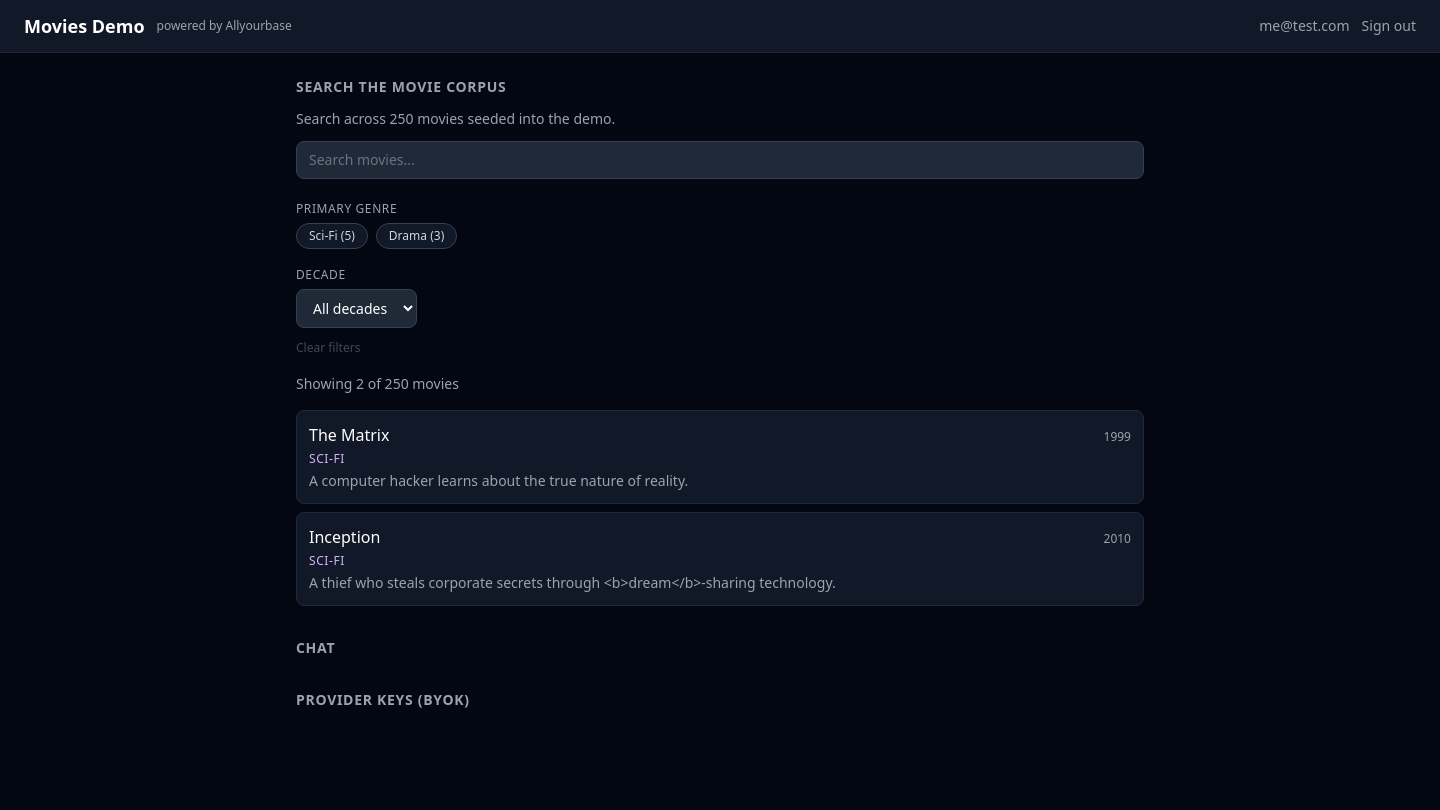
Test case: App search › clears query and filters after successful sign out
The image size is (1440, 810).
Expected: the heading "The Matrix" is shown, [309,423,389,447]
In the field with placeholder "Search movies...": (720,160) [296,141,1144,179], type "matrix"
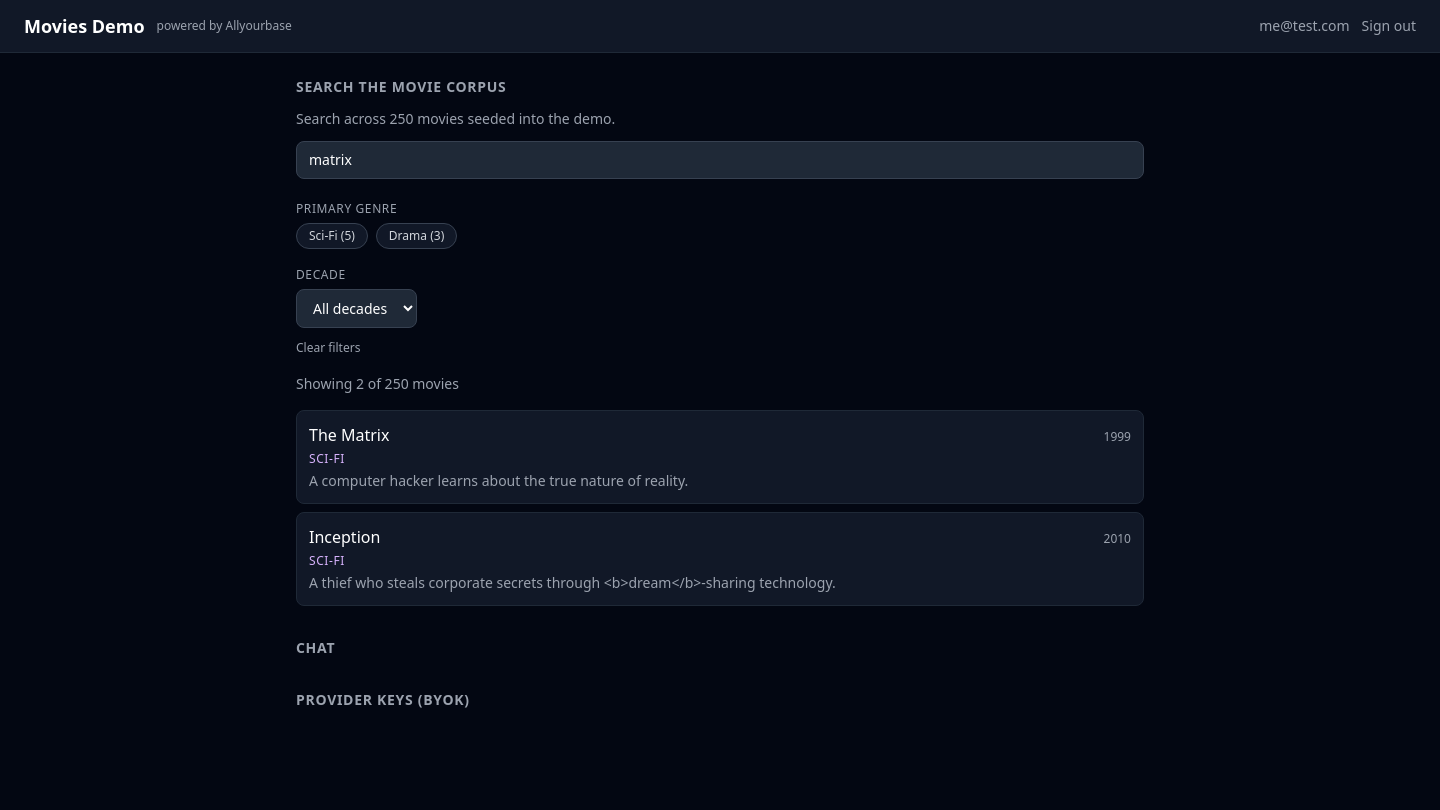
Click the button with test id "genre-facet-Sci-Fi": (332,236) [296,223,368,249]
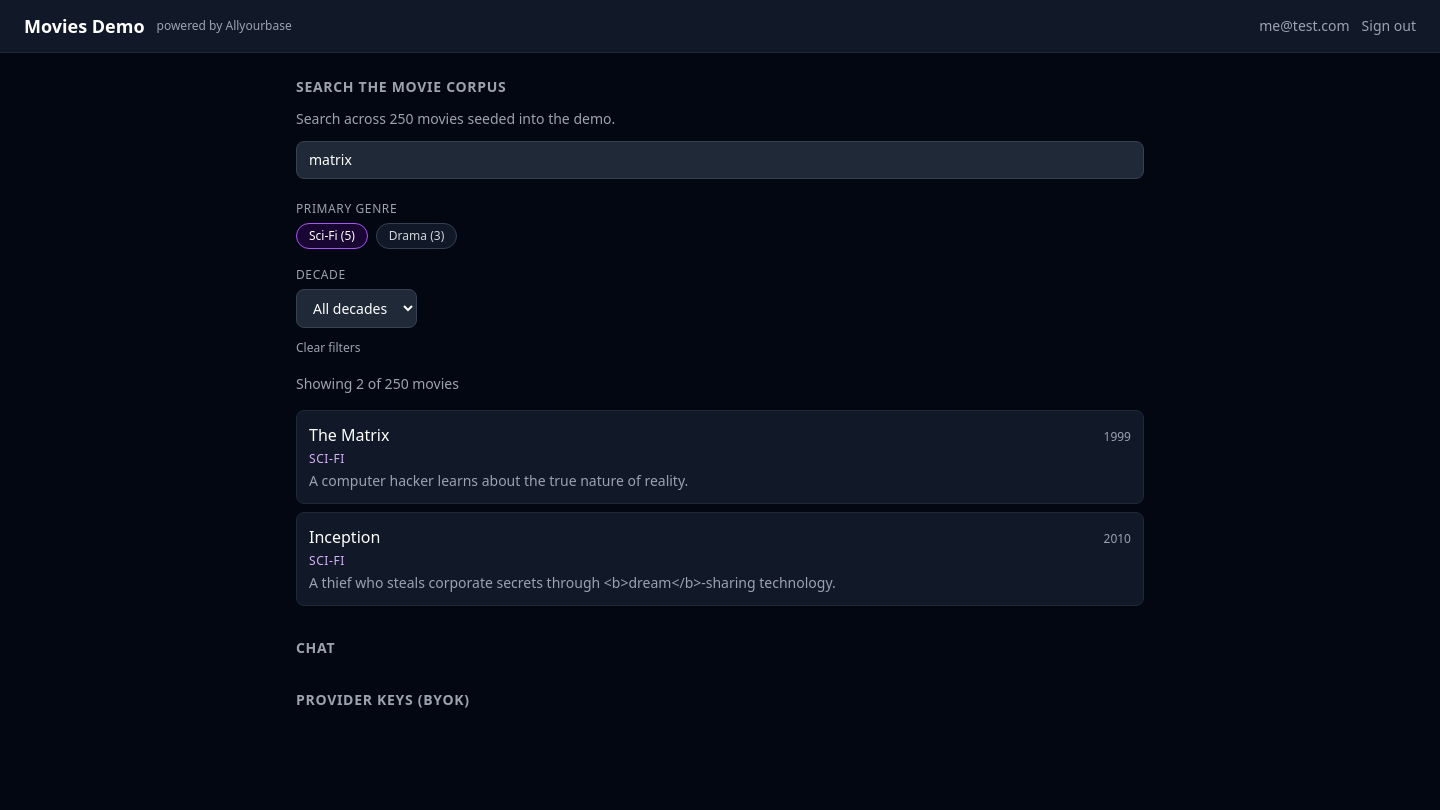
Select "1990s" in the dropdown with test id "decade-filter": (356,308) [296,289,417,328]
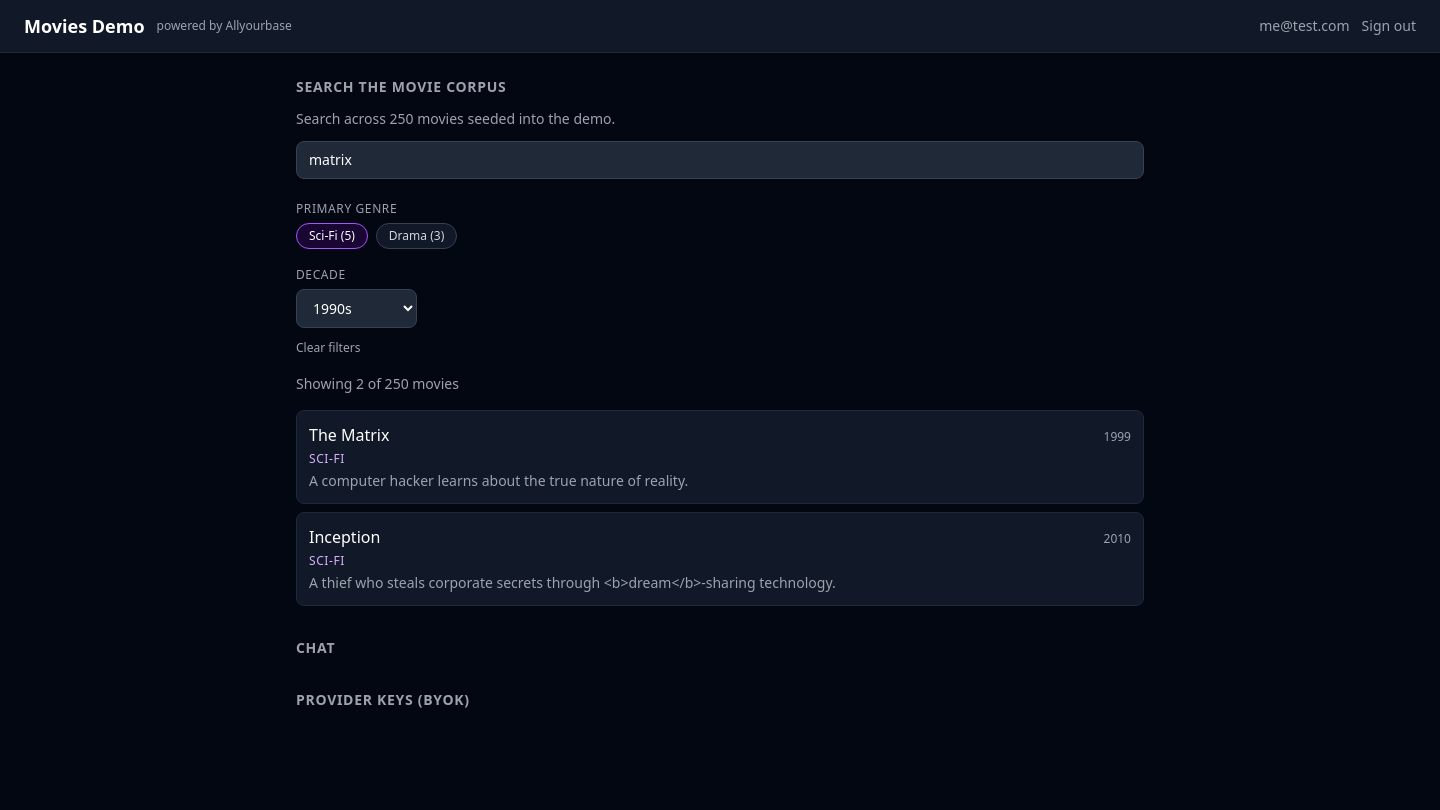
Click the button "Sign out": (1389,26) [1362,16,1416,36]
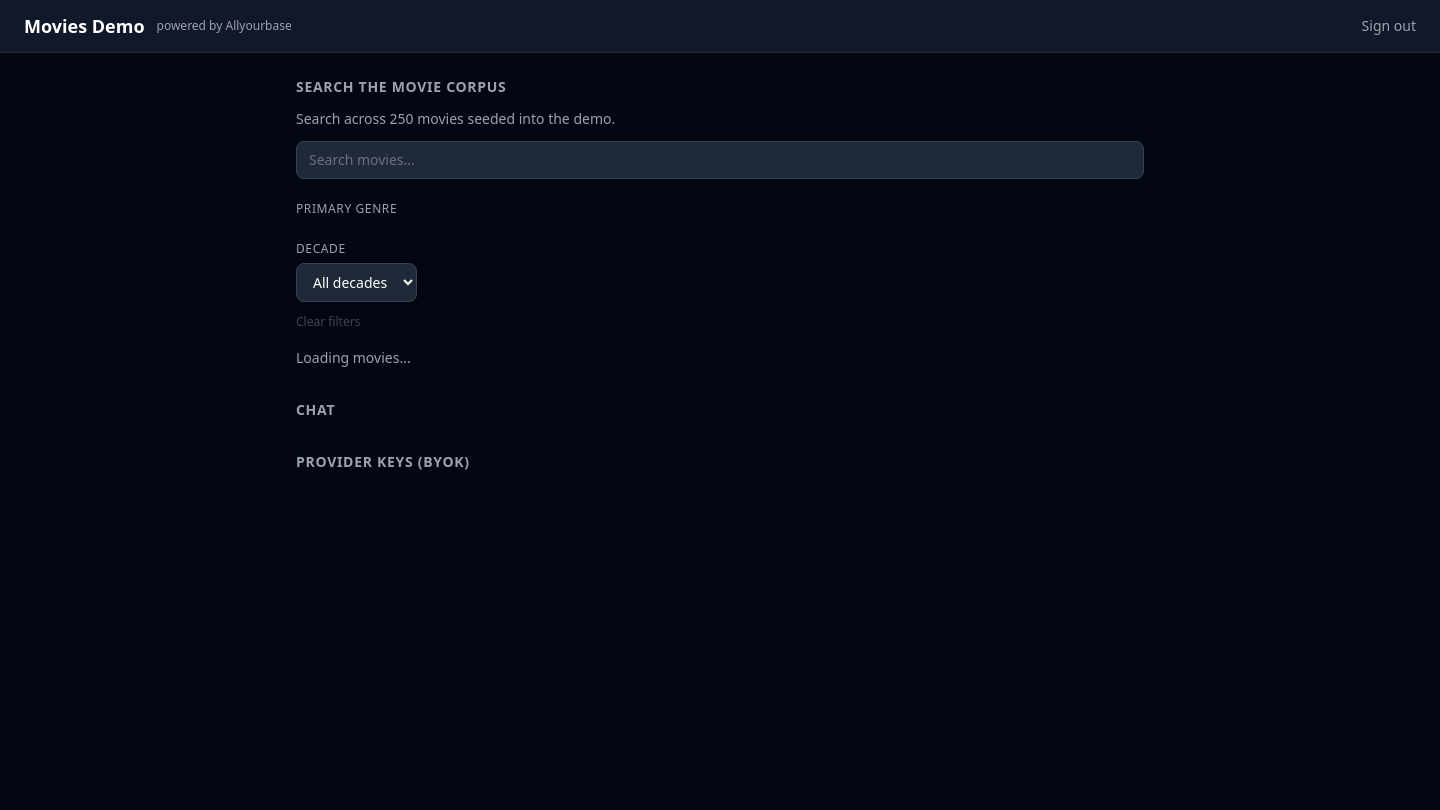
Expected: the field with placeholder "Search movies..." is empty, [296,141,1144,179]
Expected: the button "The Matrix" is gone
Expected: the message with test id "results-summary" reads "Loading movies...", [296,348,411,367]
